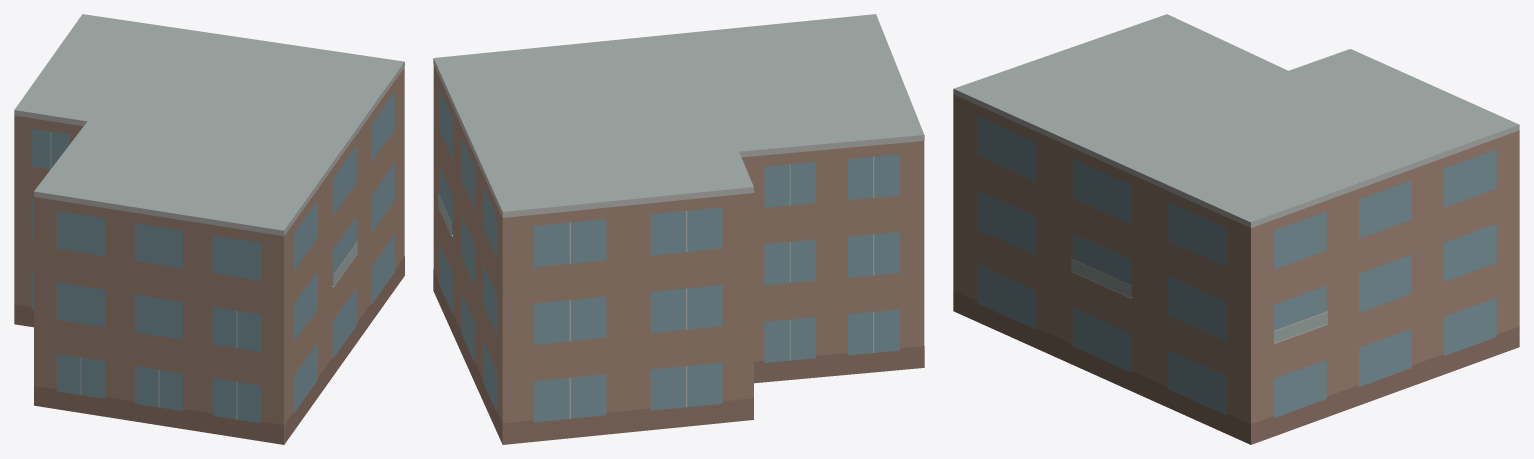
Rendered from survey-upis-32937756.glb.
3 views of the same model, side by side, from view 1: azimuth 30°, elevation 25°; view 2: azimuth 150°, elevation 25°; view 3: azimuth 270°, elevation 25° (orthographic). The views are drawn at different scales.
Parts seen in each view (by area): view 1: survey-upis-32937756.tmp; view 2: survey-upis-32937756.tmp; view 3: survey-upis-32937756.tmp.
Part boxes in pixels (<box>): survey-upis-32937756.tmp: <box>14,14,404,444</box>; survey-upis-32937756.tmp: <box>433,14,924,444</box>; survey-upis-32937756.tmp: <box>953,14,1519,444</box>.
Bounding box in the file's own units: 19.3 × 9.6 × 22.15.
